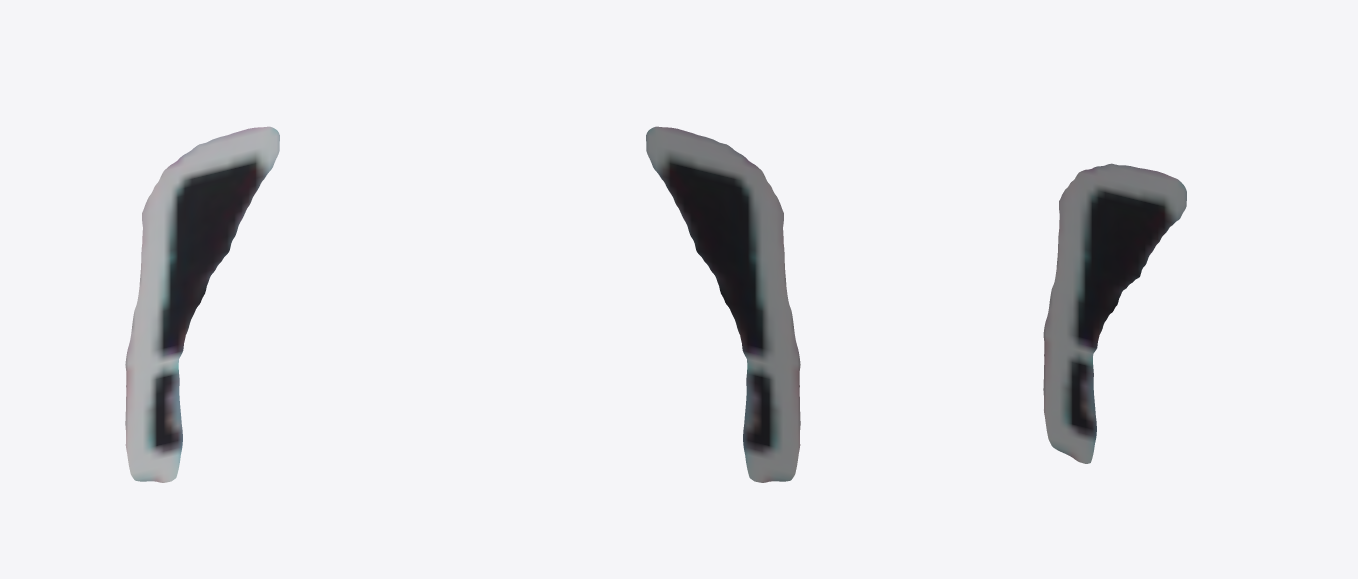
The model's file is Sticker_7.fbx.
3 views of the same model, side by side, from view 1: azimuth 30°, elevation 25°; view 2: azimuth 150°, elevation 25°; view 3: azimuth 330°, elevation 25° (orthographic). The views are drawn at different scales.
Parts seen in each view (by area): view 1: Sticker_7; view 2: Sticker_7; view 3: Sticker_7.
Boxes of the visible parts, <box> form: Sticker_7: <box>125,126,279,482</box>; Sticker_7: <box>646,126,800,482</box>; Sticker_7: <box>1043,163,1186,463</box>.
Size of the model in its own units: 0.1206 by 0.1322 by 4.2e-09.
